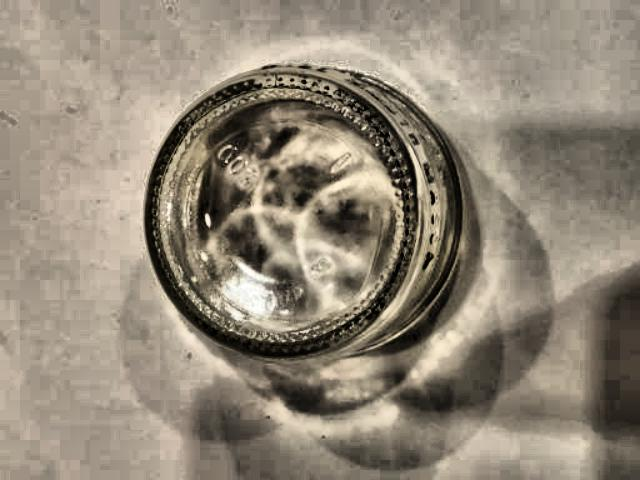Almennt: (124, 36, 525, 389)
